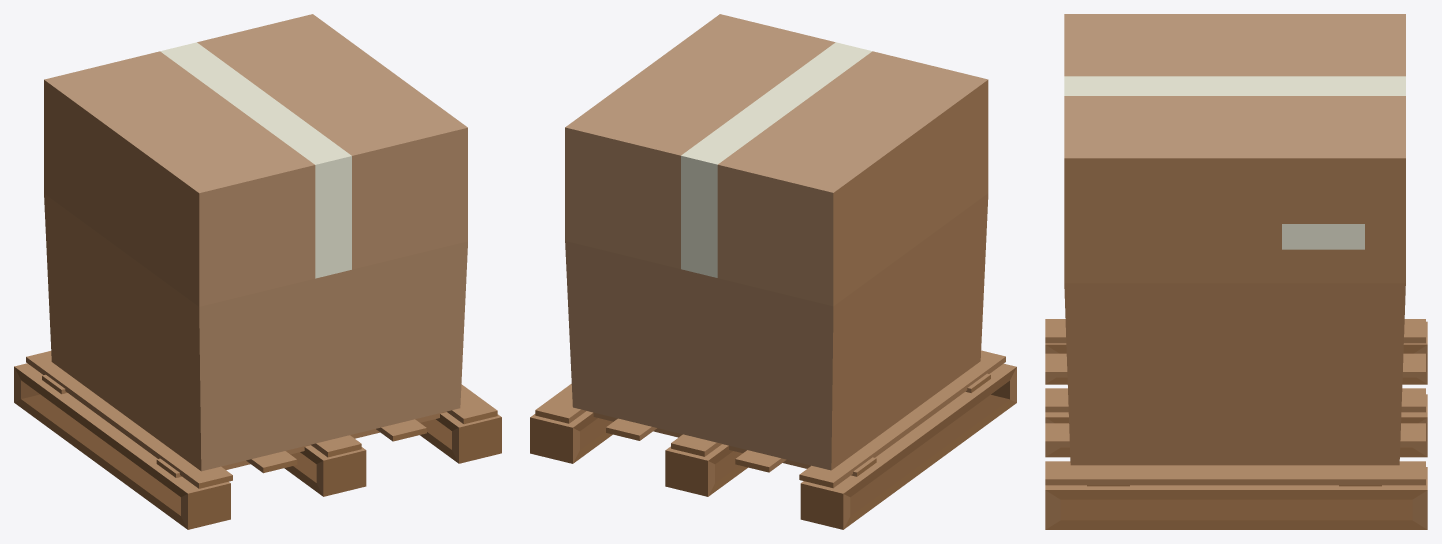
File: pallet.dae
3 renders of one model, left to right at view 1: azimuth 30°, elevation 25°; view 2: azimuth 150°, elevation 25°; view 3: azimuth 270°, elevation 25°, orthographic. The views are drawn at different scales.
Parts seen in each view (by area): view 1: B3, Palette.001; view 2: B3, Palette.001; view 3: B3, Palette.001.
Part boxes in pixels (left/top/right/bottom): B3: left=44, top=14, right=467, bottom=471; Palette.001: left=14, top=351, right=501, bottom=529; B3: left=565, top=14, right=988, bottom=470; Palette.001: left=530, top=350, right=1016, bottom=529; B3: left=1064, top=14, right=1405, bottom=465; Palette.001: left=1045, top=319, right=1427, bottom=529.
Size of the model in its own units: 0.9706 by 0.9315 by 0.962.
Materials: 1 (1 with a texture image).
